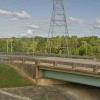Bridge: (7, 41, 95, 87)
